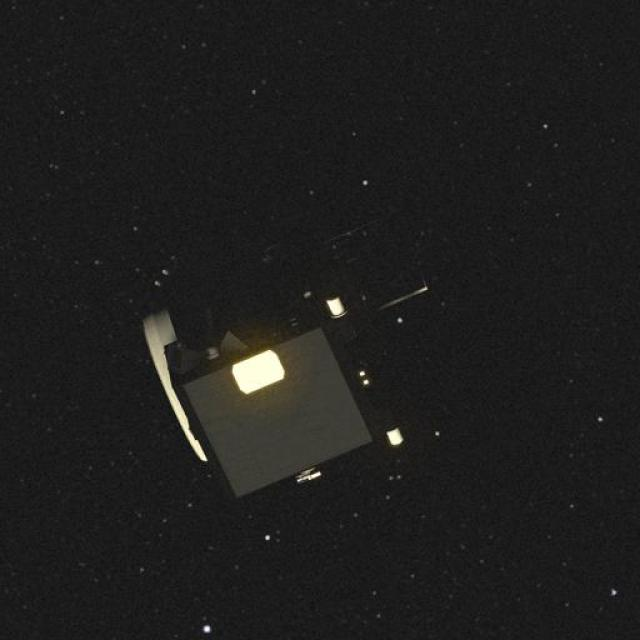proba_3_csc: (138, 181, 488, 511)
